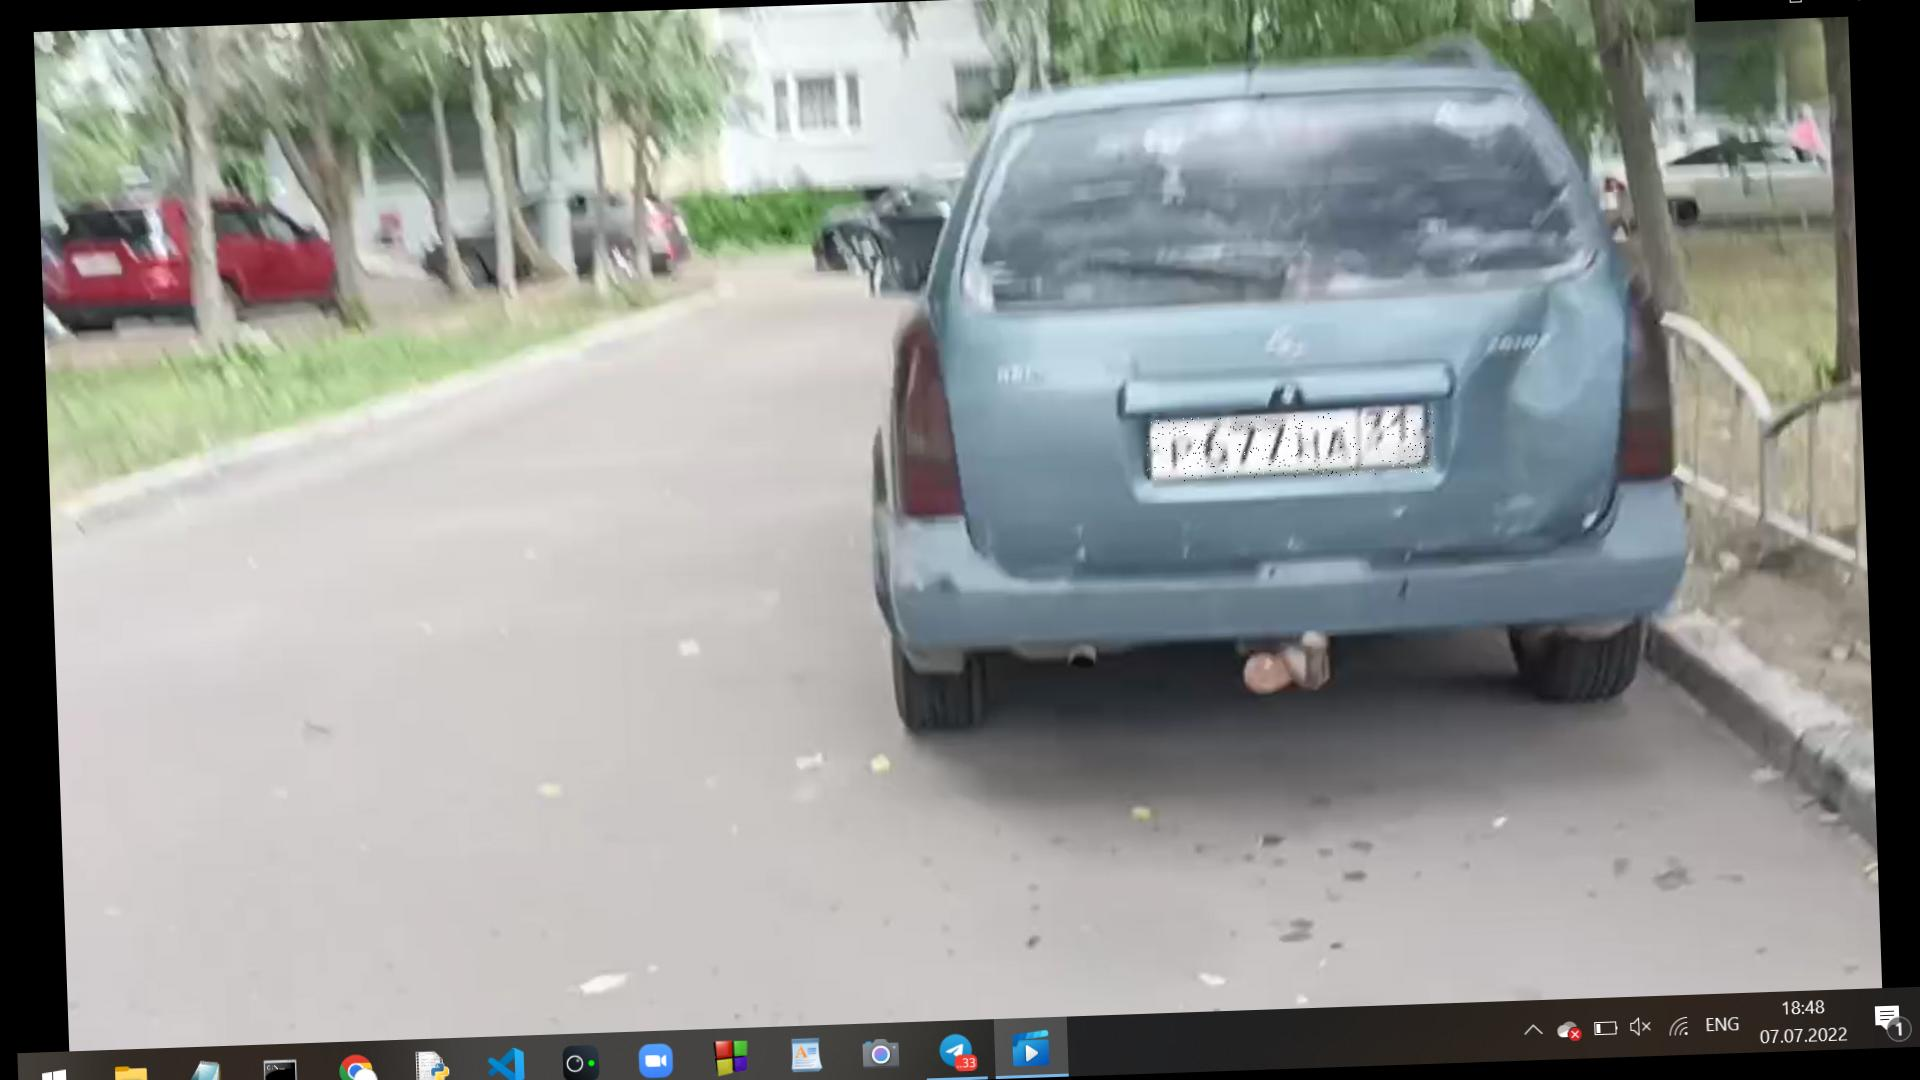plate: (1145, 411, 1437, 484)
